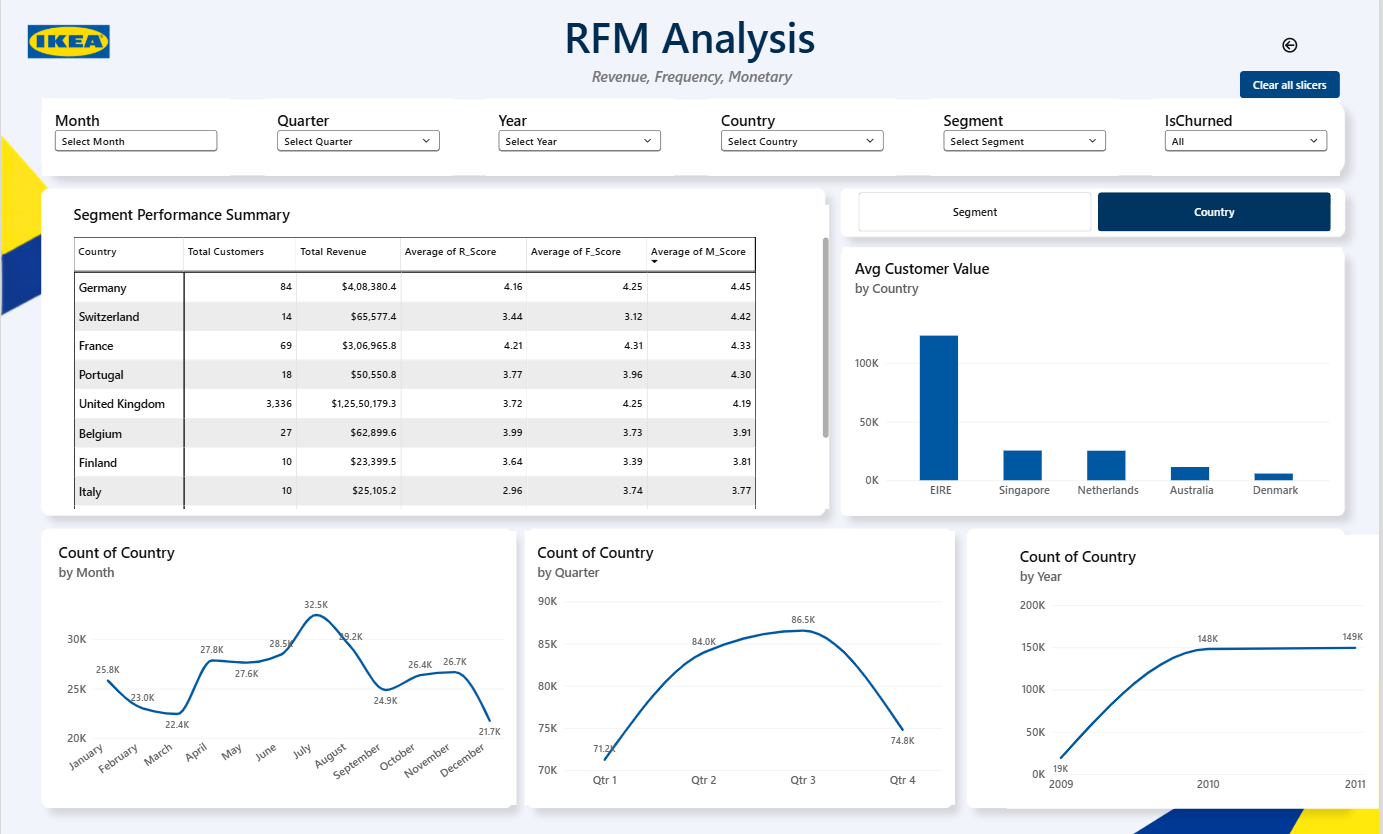

This screenshot's page, from the dashboard's own definition file:
{"tool":"powerbi","page":{"name":"RFM Analysis","canvas":[1750,1100],"ordinal":2},"visuals":[{"type":"listSlicer","fields":{"Values":["Sheet1.InvoiceDate.Variation.Date Hierarchy.Month"]},"box":[52.2,136.6,238.1,98.1],"z":0},{"type":"lineChart","fields":{"Category":["Sheet1.InvoiceMonth.Variation.Date Hierarchy.Month"],"Y":["Sheet1.Churned %"]},"box":[50,695,597.5,345],"z":0,"group":"g1"},{"type":"listSlicer","fields":{"Values":["Sheet1.InvoiceDate.Variation.Date Hierarchy.Quarter"]},"box":[334.4,136.6,238.1,98.1],"z":1000},{"type":"lineChart","fields":{"Category":["Sheet1.InvoiceMonth.Variation.Date Hierarchy.Quarter"],"Y":["Sheet1.Churned %"]},"box":[663.9,680.4,547.7,354.4],"z":1000,"group":"g1"},{"type":"listSlicer","fields":{"Values":["Sheet1.InvoiceDate.Variation.Date Hierarchy.Year"]},"box":[616.6,136.6,238.1,98.1],"z":2000},{"type":"columnChart","fields":{"Category":["Sheet1.Segment"],"Y":["Sheet1.Avg Customer Value"]},"box":[1070,332.5,635.4,340],"z":2000,"group":"g1"},{"type":"listSlicer","fields":{"Values":["Sheet1.Country"]},"box":[898.8,136.6,238.1,98.1],"z":3000},{"type":"lineChart","fields":{"Category":["Sheet1.InvoiceMonth.Variation.Date Hierarchy.Year"],"Y":["Sheet1.Churned %"]},"box":[1226.8,680.4,471.4,361.2],"z":3000,"group":"g1"},{"type":"listSlicer","fields":{"Values":["Sheet1.Segment"]},"box":[1180.9,136.6,238.1,98.1],"z":4000},{"type":"pivotTable","title":"Segment Performance Summary","fields":{"Rows":["Sheet1.Segment"],"Values":["Sheet1.Total Customers","Sheet1.Total Revenue","Avg(Sheet1.R_Score)","Avg(Sheet1.F_Score)","Avg(Sheet1.M_Score)"]},"box":[85,270,960,375],"z":4000,"group":"g1"},{"type":"listSlicer","fields":{"Values":["Sheet1.IsChurned"]},"box":[1463.1,136.6,238.1,98.1],"z":5000},{"type":"bookmarkNavigator","box":[1089.2,255.6,600,50],"z":6000},{"type":"image","box":[0,19.1,172.5,90],"z":8000},{"type":"textbox","box":[576.4,20.6,597,81],"z":9000},{"type":"actionButton","box":[1573.5,46,127,46],"z":10000},{"type":"actionButton","box":[1573.6,101.8,127.3,34.5],"z":11000},{"type":"textbox","box":[576.4,95.3,597,27],"z":12000},{"type":"group","id":"g1","title":"Segment","box":[50,270,1655.4,771.6],"z":14000}]}

Visuals, with their boxes on the page's 1750x1100 design canvas (x1, y1, x2, y2). These are canvas units, not pixel positions in the 1383x834 screenshot, which may show the page scaled, cropped or inside an application window:
listSlicer - Sheet1.InvoiceDate.Variation.Date Hierarchy.Month: {"left": 52, "top": 137, "right": 290, "bottom": 235}
lineChart - Sheet1.InvoiceMonth.Variation.Date Hierarchy.Month x Sheet1.Churned %: {"left": 50, "top": 695, "right": 648, "bottom": 1040}
listSlicer - Sheet1.InvoiceDate.Variation.Date Hierarchy.Quarter: {"left": 334, "top": 137, "right": 572, "bottom": 235}
lineChart - Sheet1.InvoiceMonth.Variation.Date Hierarchy.Quarter x Sheet1.Churned %: {"left": 664, "top": 680, "right": 1212, "bottom": 1035}
listSlicer - Sheet1.InvoiceDate.Variation.Date Hierarchy.Year: {"left": 617, "top": 137, "right": 855, "bottom": 235}
columnChart - Sheet1.Segment x Sheet1.Avg Customer Value: {"left": 1070, "top": 332, "right": 1705, "bottom": 672}
listSlicer - Sheet1.Country: {"left": 899, "top": 137, "right": 1137, "bottom": 235}
lineChart - Sheet1.InvoiceMonth.Variation.Date Hierarchy.Year x Sheet1.Churned %: {"left": 1227, "top": 680, "right": 1698, "bottom": 1042}
listSlicer - Sheet1.Segment: {"left": 1181, "top": 137, "right": 1419, "bottom": 235}
"Segment Performance Summary" pivotTable: {"left": 85, "top": 270, "right": 1045, "bottom": 645}
listSlicer - Sheet1.IsChurned: {"left": 1463, "top": 137, "right": 1701, "bottom": 235}
bookmarkNavigator: {"left": 1089, "top": 256, "right": 1689, "bottom": 306}
image: {"left": 0, "top": 19, "right": 172, "bottom": 109}
textbox: {"left": 576, "top": 21, "right": 1173, "bottom": 102}
actionButton: {"left": 1574, "top": 46, "right": 1700, "bottom": 92}
actionButton: {"left": 1574, "top": 102, "right": 1701, "bottom": 136}
textbox: {"left": 576, "top": 95, "right": 1173, "bottom": 122}
"Segment" group: {"left": 50, "top": 270, "right": 1705, "bottom": 1042}
